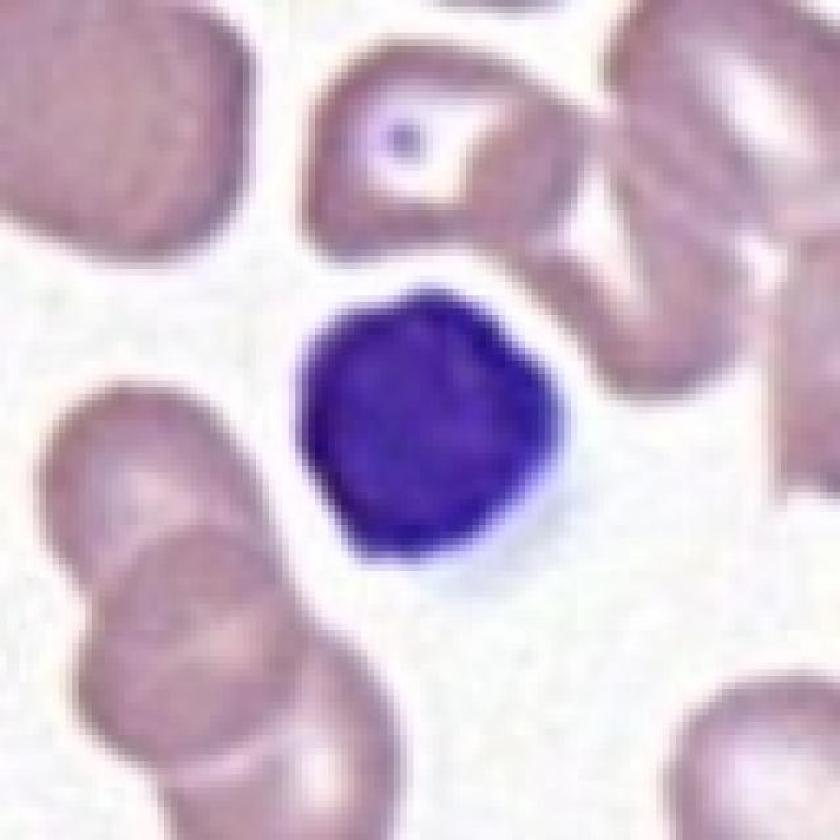lymphocyte: (287, 281, 583, 580)
